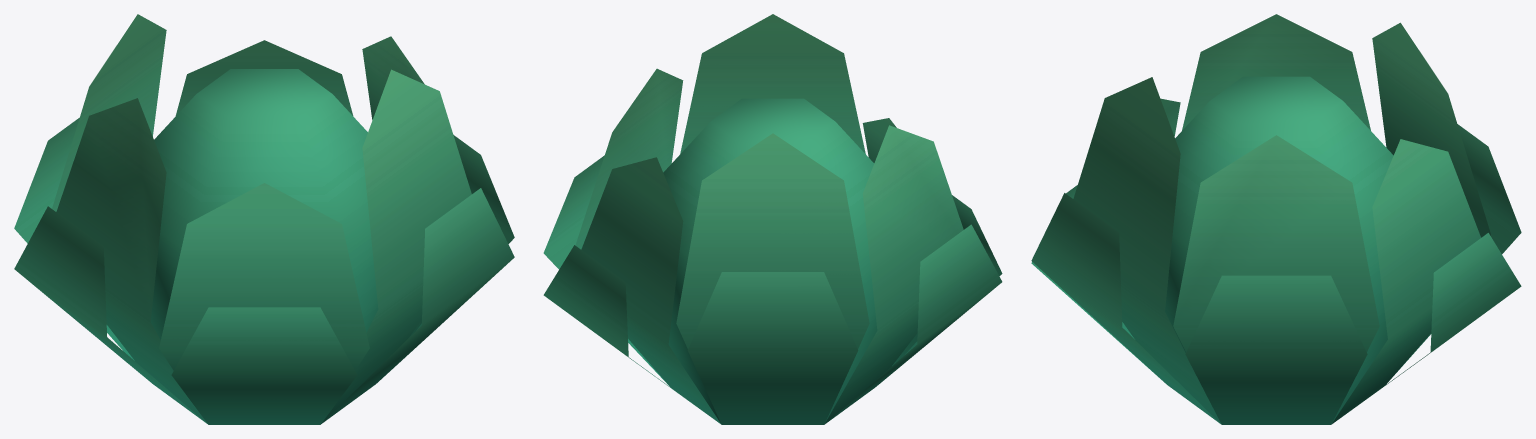
File: kenney-food-cabbage.glb
3 renders of one model, left to right at view 1: azimuth 30°, elevation 25°; view 2: azimuth 150°, elevation 25°; view 3: azimuth 270°, elevation 25°, orthographic. The views are drawn at different scales.
Visible parts, largest first — view 1: cabbage; view 2: cabbage; view 3: cabbage.
Part boxes in pixels (bbox=[...]): cabbage: bbox=[14, 14, 514, 424]; cabbage: bbox=[543, 14, 1002, 424]; cabbage: bbox=[1031, 14, 1521, 424].
Bounding box in the file's own units: 0.3795 × 0.3074 × 0.4036.
1 material, 1 textured.
